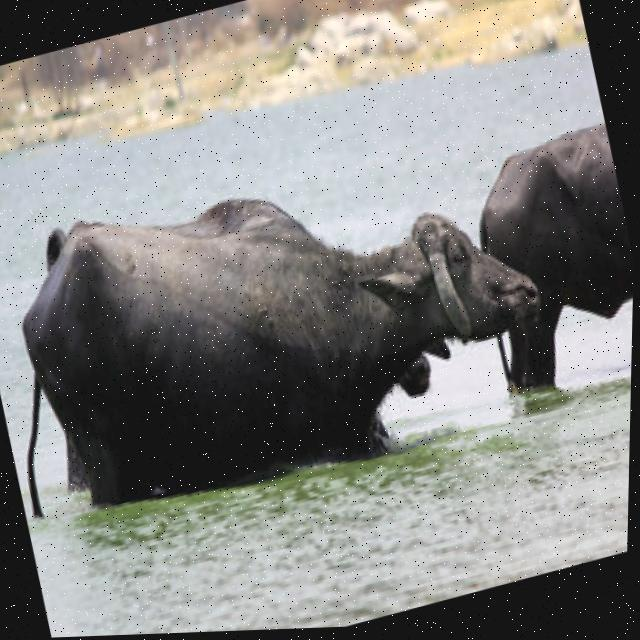Buffalo: (0, 106, 567, 537)
